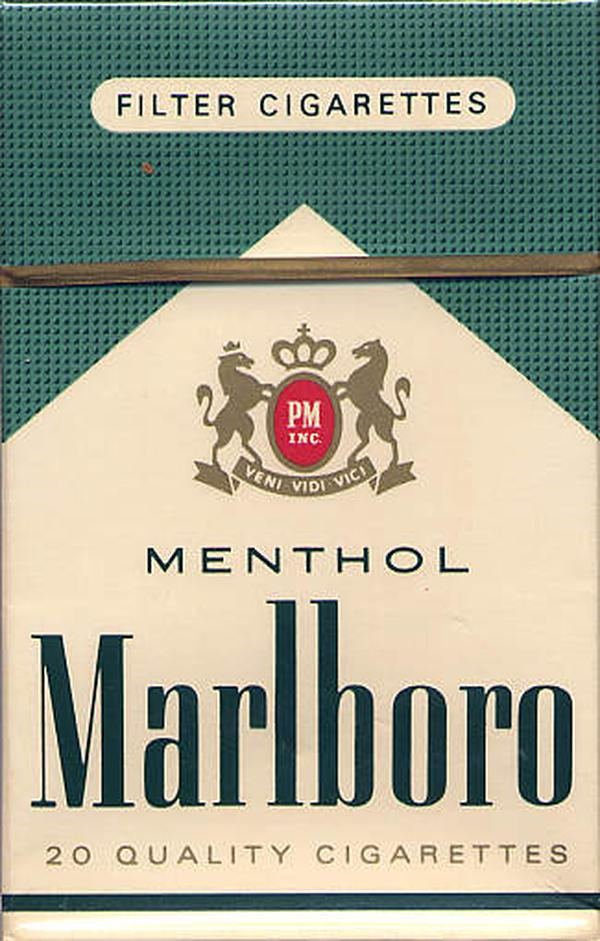marlboro_mentol: (3, 6, 600, 935)
